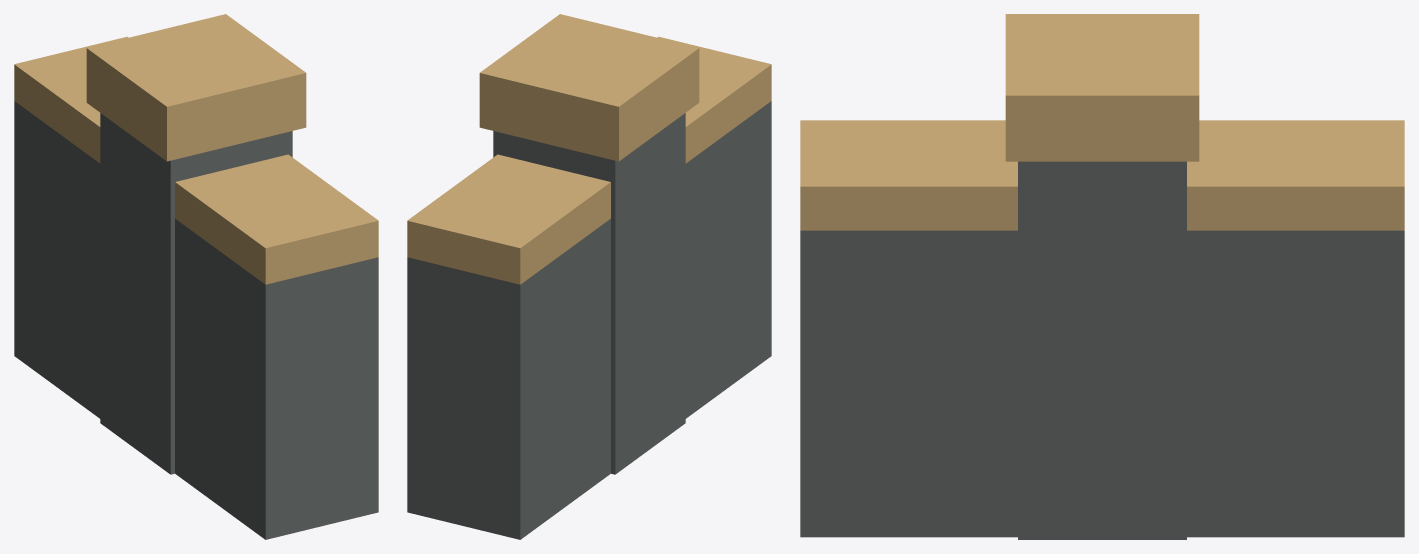
File: SmartWallStraight.fbx
3 renders of one model, left to right at view 1: azimuth 30°, elevation 25°; view 2: azimuth 150°, elevation 25°; view 3: azimuth 270°, elevation 25°, orthographic. The views are drawn at different scales.
Visible parts, largest first — view 1: SmartWallStraight; view 2: SmartWallStraight; view 3: SmartWallStraight.
Boxes of the visible parts, left/top/right/bottom form: SmartWallStraight: left=14, top=14, right=378, bottom=539; SmartWallStraight: left=407, top=14, right=771, bottom=539; SmartWallStraight: left=800, top=14, right=1404, bottom=539.
Size of the model in its own units: 32 by 82 by 100.
